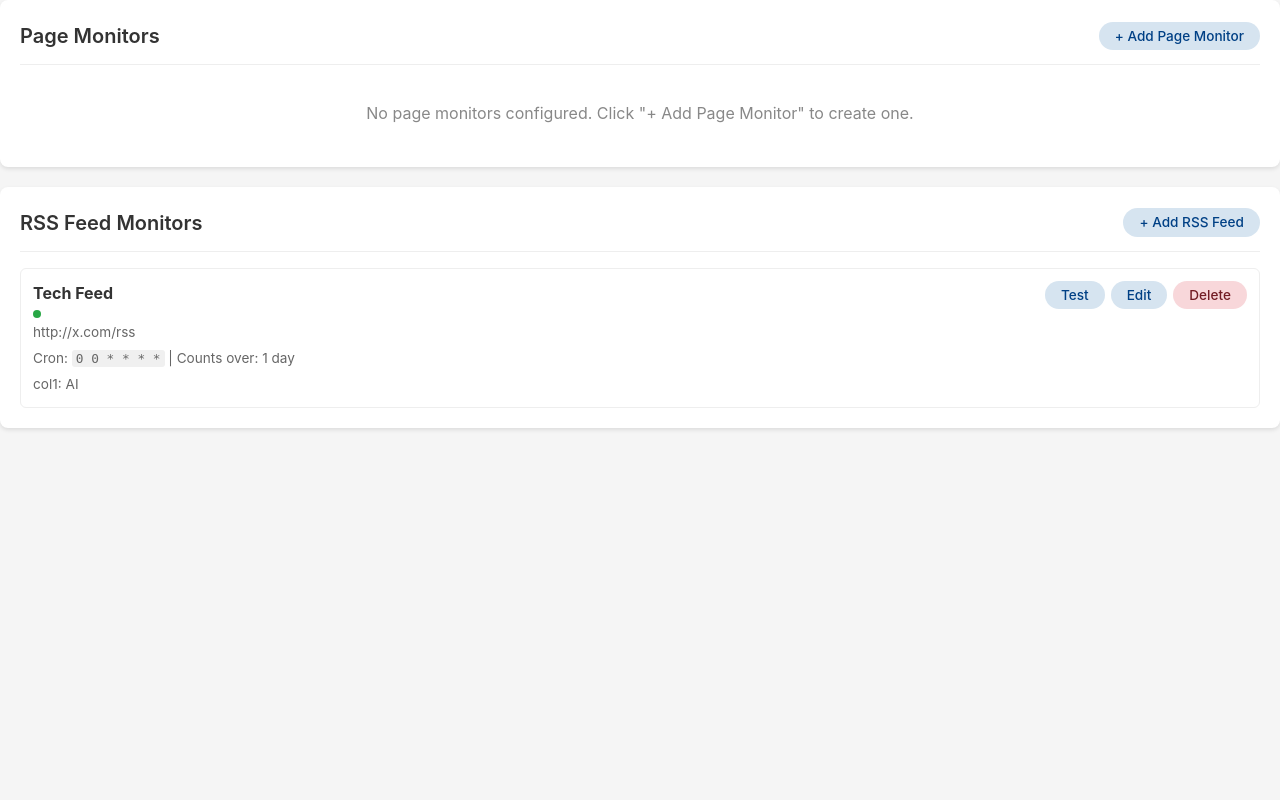
Scenario: MonitorConfig › opens edit form for existing RSS monitor
Expected: the text "Tech Feed" is shown, x1=33 y1=283 x2=113 y2=303
What coordinates should you click on to do the following:
click the button "Edit"
I would click on:
 (1139, 295)
Its box is x1=1111 y1=281 x2=1167 y2=309.
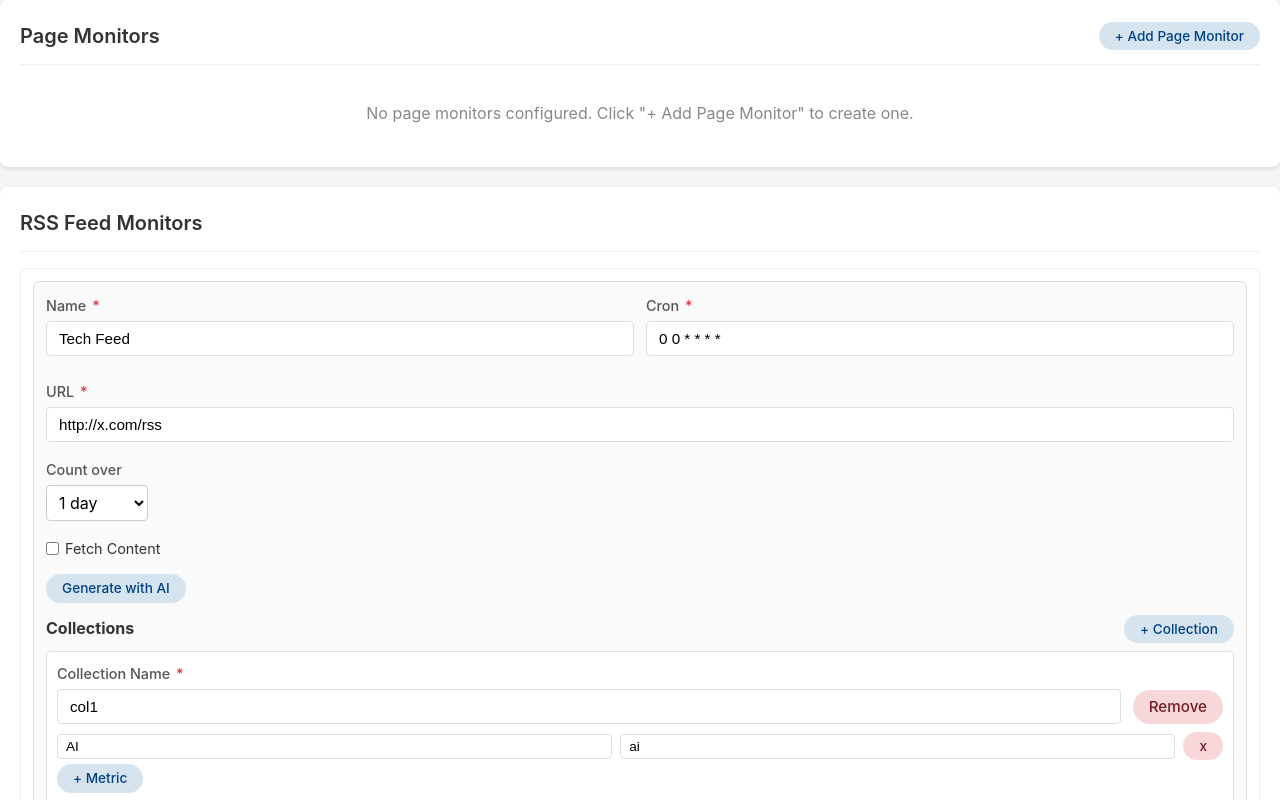
Expected: the field showing "Tech Feed" is shown, x1=46 y1=321 x2=634 y2=356
